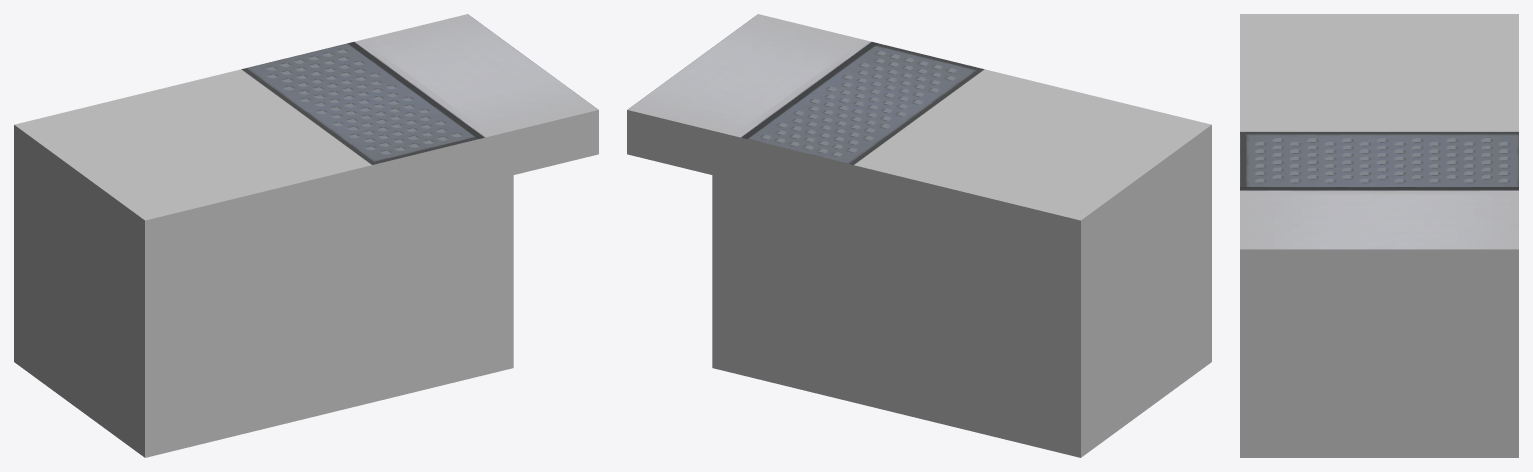
File: ratp_platform.obj
3 views of the same model, side by side, from view 1: azimuth 30°, elevation 25°; view 2: azimuth 150°, elevation 25°; view 3: azimuth 270°, elevation 25° (orthographic). The views are drawn at different scales.
Parts seen in each view (by area): view 1: cube; view 2: cube; view 3: cube.
Boxes of the visible parts, left/top/right/bottom form: cube: left=14, top=14, right=598, bottom=457; cube: left=627, top=14, right=1211, bottom=457; cube: left=1240, top=14, right=1518, bottom=457.
Bounding box in the file's own units: 2 × 1 × 1.
